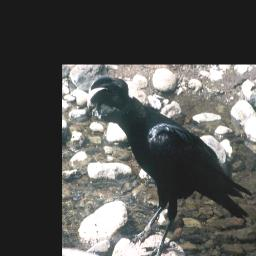Crow: (86, 74, 252, 256)
